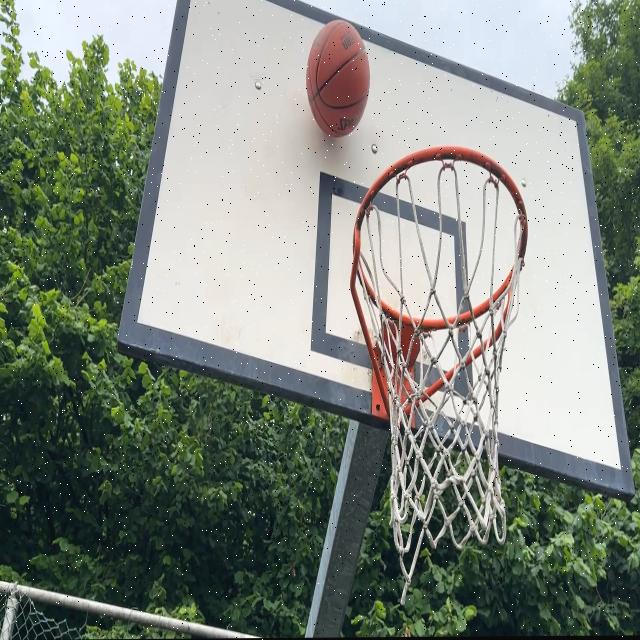rebound_hit: (307, 22, 370, 148)
